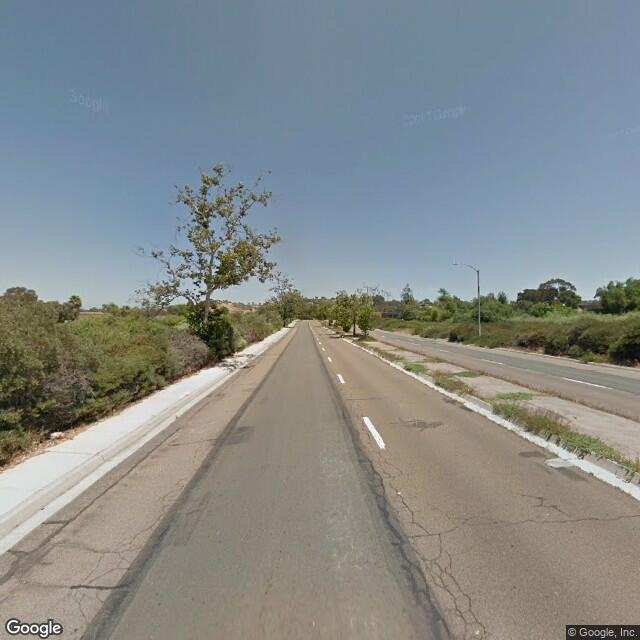litter: (49, 431, 64, 438)
